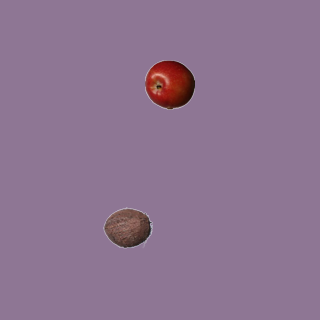Apple Braeburn: (144, 59, 194, 109)
Cocos: (102, 202, 152, 252)
